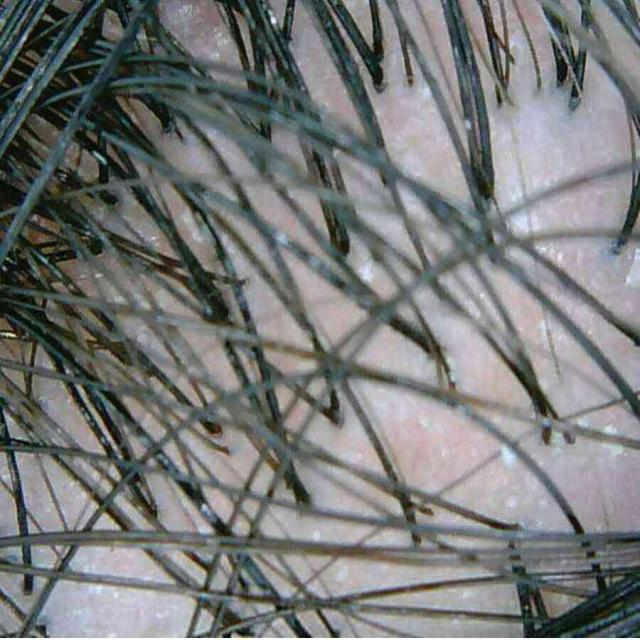d: (625, 248, 640, 288), (500, 445, 518, 468)
